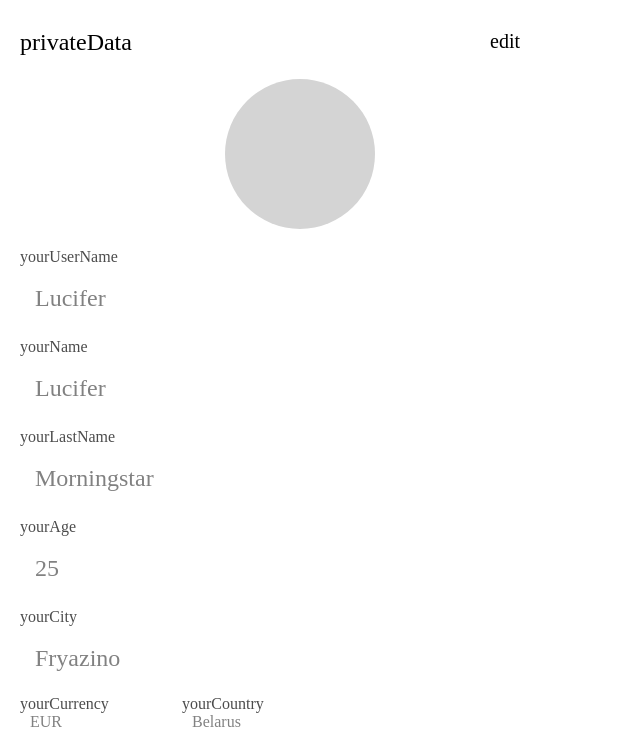
editableProfileCardTest › changeReadOnly
Click the button with test id "EditableProfileCard.EditButton" at (505, 42), box [430,20,580,63]
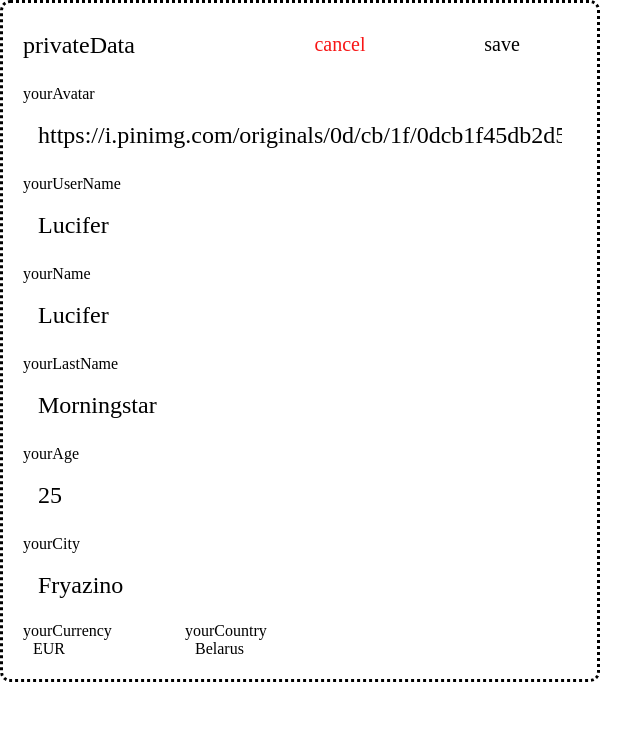
expect the button with test id "EditableProfileCard.SaveButton" is shown: met, box [427,23,577,66]
expect the button with test id "EditableProfileCard.CancelButton" is shown: met, box [265,23,415,66]
expect the field with test id "EditableProfileCard.AvatarInput.InputElement" is shown: met, box [23,114,577,156]
